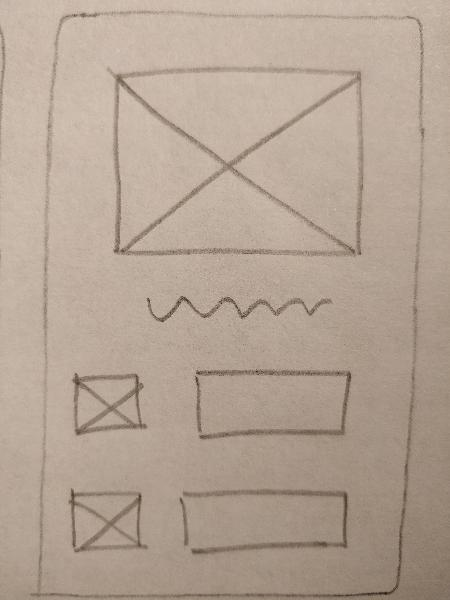image: (101, 57, 368, 268), (65, 368, 152, 444), (62, 486, 148, 561)
text: (136, 286, 332, 331)
text_input: (185, 364, 358, 451), (173, 481, 355, 559)
